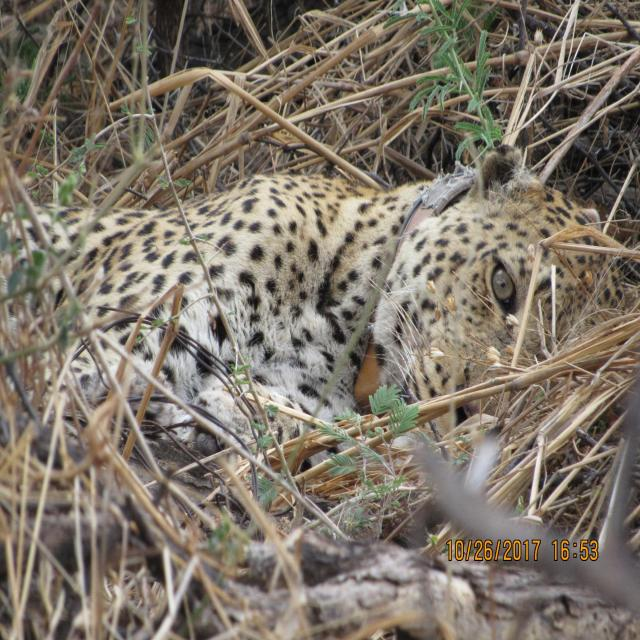Leopard: (17, 142, 621, 464)
